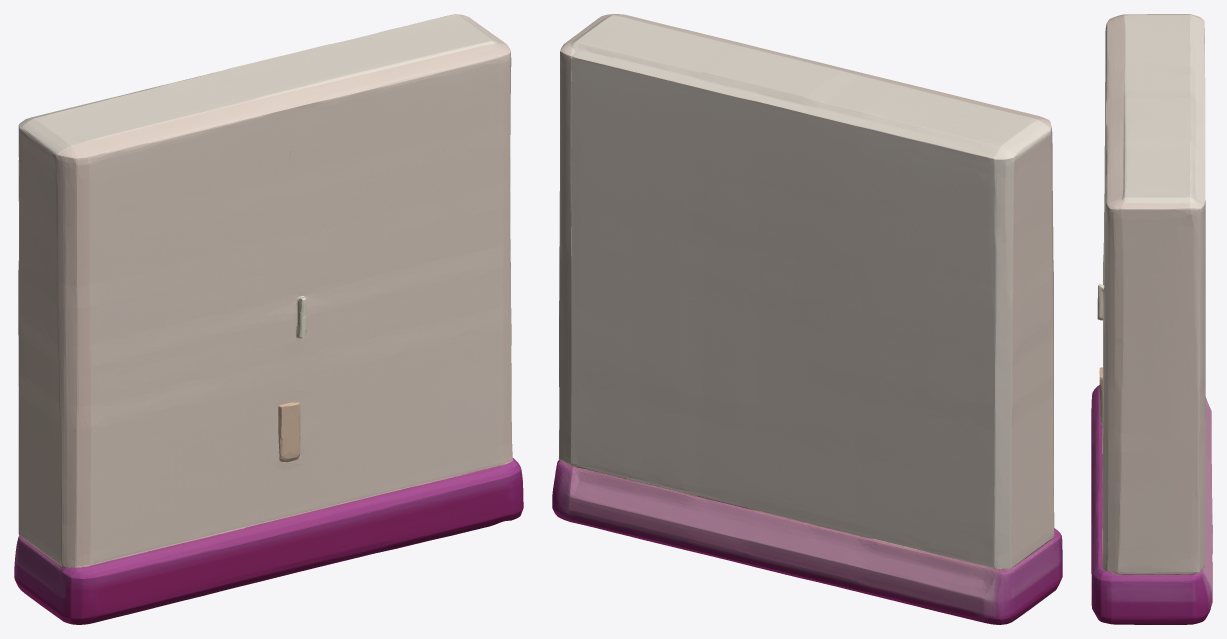
3 renders of one model, left to right at view 1: azimuth 30°, elevation 25°; view 2: azimuth 150°, elevation 25°; view 3: azimuth 270°, elevation 25°, orthographic. The views are drawn at different scales.
Parts seen in each view (by area): view 1: world; view 2: world; view 3: world.
Part boxes in pixels (x1=…): world: x1=14, y1=14, x2=523, y2=624; world: x1=552, y1=14, x2=1062, y2=624; world: x1=1091, y1=14, x2=1212, y2=624.
Size of the model in its own units: 1 by 0.9884 by 0.258.
Materials: 1 (1 with a texture image).
